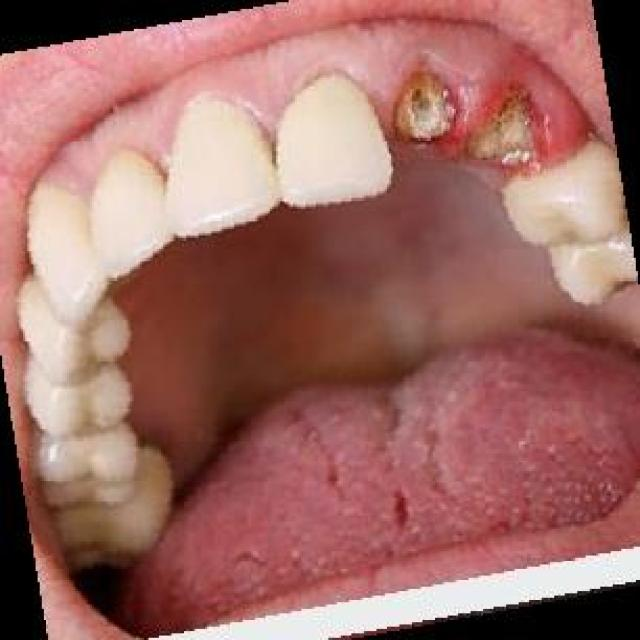caries: (478, 80, 552, 178), (394, 66, 465, 148)
